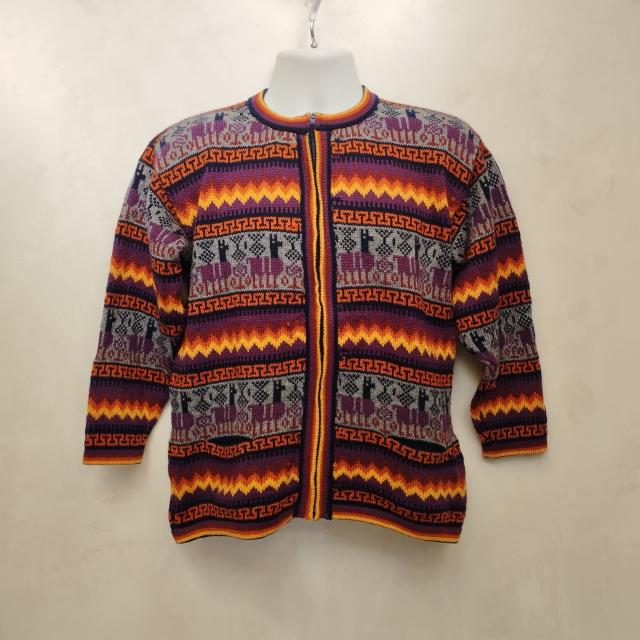Chompa: (82, 78, 548, 546)
